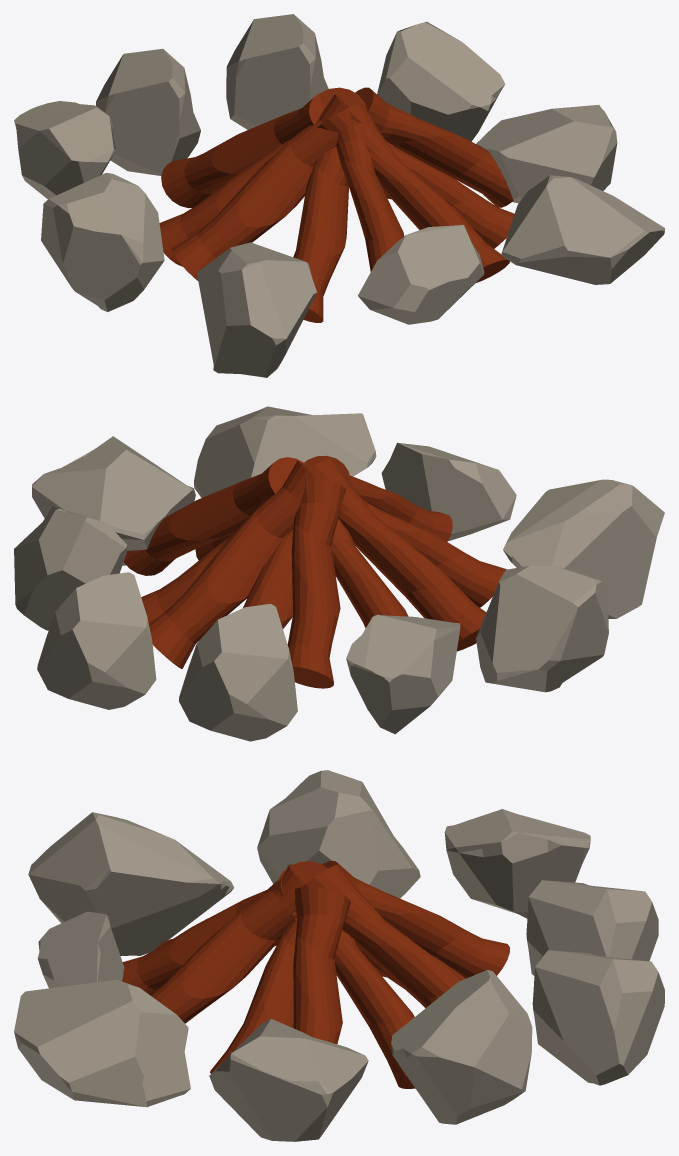
The model's file is fuego.fbx.
3 renders of one model, top to bottom at view 1: azimuth 30°, elevation 25°; view 2: azimuth 150°, elevation 25°; view 3: azimuth 270°, elevation 25°, orthographic. The views are drawn at different scales.
Parts seen in each view (by area): view 1: LowPolyRock.007, LowPolyRock.004, LowPolyRock.002, LowPolyRock.006, LowPolyRock.001, LowPolyRock.008, Cylinder.008, LowPolyRock, LowPolyRock.003, LowPolyRock.005, Cylinder, Cylinder.009 (+6 smaller); view 2: LowPolyRock.007, LowPolyRock.002, LowPolyRock, LowPolyRock.001, LowPolyRock.008, LowPolyRock.004, Cylinder.003, LowPolyRock.005, Cylinder.009, LowPolyRock.006, Cylinder.008, LowPolyRock.003 (+6 smaller); view 3: LowPolyRock.004, LowPolyRock.002, LowPolyRock.006, LowPolyRock, LowPolyRock.008, LowPolyRock.007, LowPolyRock.005, LowPolyRock.001, Cylinder.004, Cylinder, Cylinder.003, Cylinder.009 (+5 smaller).
Boxes of the visible parts, box(x1,y1,x2,y2) form: LowPolyRock.007: box(41, 172, 164, 311); LowPolyRock.004: box(501, 175, 664, 284); LowPolyRock.002: box(197, 242, 317, 377); LowPolyRock.006: box(377, 21, 505, 141); LowPolyRock.001: box(96, 48, 200, 175); LowPolyRock.008: box(476, 105, 617, 203); Cylinder.008: box(171, 93, 361, 280); LowPolyRock: box(226, 14, 328, 129); LowPolyRock.003: box(358, 225, 484, 324); LowPolyRock.005: box(14, 101, 116, 199); Cylinder: box(355, 87, 513, 207); Cylinder.009: box(161, 93, 323, 208); LowPolyRock.007: box(476, 565, 608, 692); LowPolyRock.002: box(503, 479, 664, 618); LowPolyRock: box(37, 572, 156, 709); LowPolyRock.001: box(179, 603, 297, 741); LowPolyRock.008: box(32, 436, 195, 565); LowPolyRock.004: box(194, 406, 376, 497); Cylinder.003: box(149, 461, 314, 668); LowPolyRock.005: box(346, 614, 460, 734); Cylinder.009: box(287, 476, 345, 688); LowPolyRock.006: box(14, 506, 126, 630); Cylinder.008: box(307, 458, 486, 651); LowPolyRock.003: box(381, 442, 516, 541); LowPolyRock.004: box(14, 979, 190, 1107); LowPolyRock.002: box(28, 812, 233, 955); LowPolyRock.006: box(391, 970, 532, 1124); LowPolyRock: box(532, 950, 664, 1085); LowPolyRock.008: box(209, 1018, 368, 1141); LowPolyRock.007: box(257, 770, 420, 898); LowPolyRock.005: box(444, 809, 590, 918); LowPolyRock.001: box(526, 880, 658, 975); Cylinder.004: box(150, 864, 304, 1023); Cylinder: box(293, 886, 350, 1044); Cylinder.003: box(302, 864, 462, 1008); Cylinder.009: box(322, 861, 509, 978).
Size of the model in its own units: 638 by 185 by 611.
